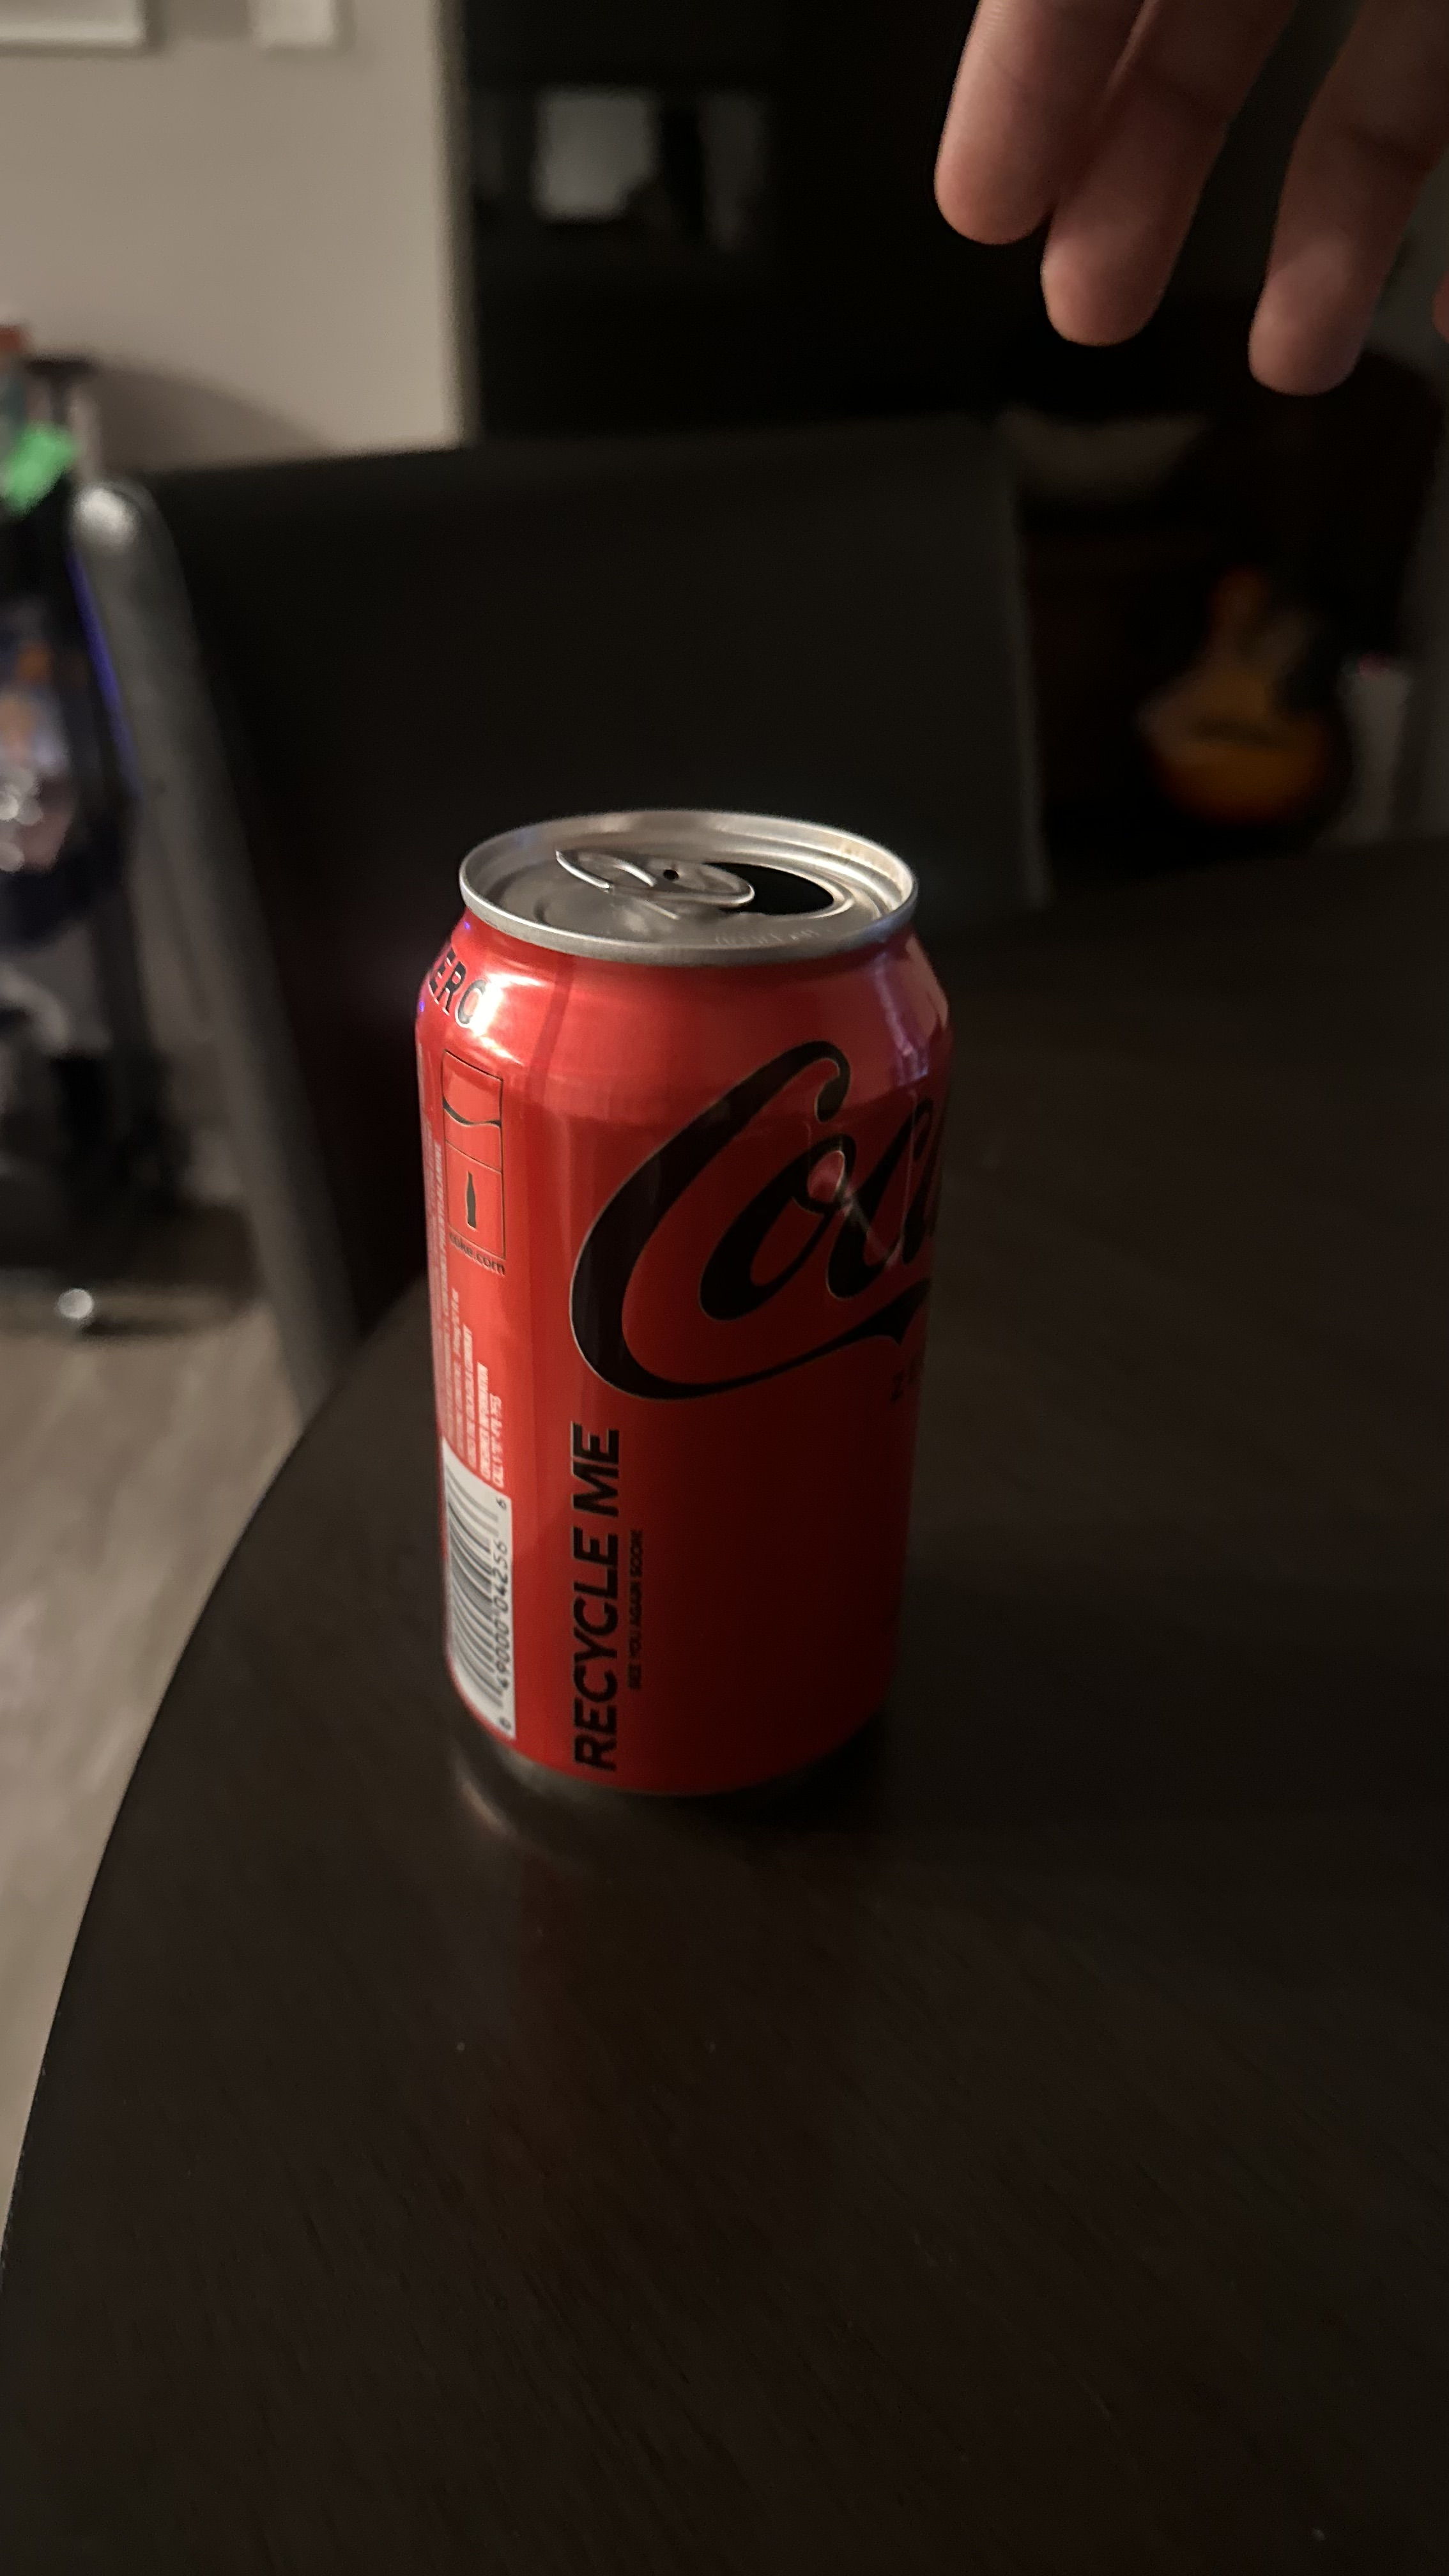Coke Zero: (356, 770, 984, 1831)
